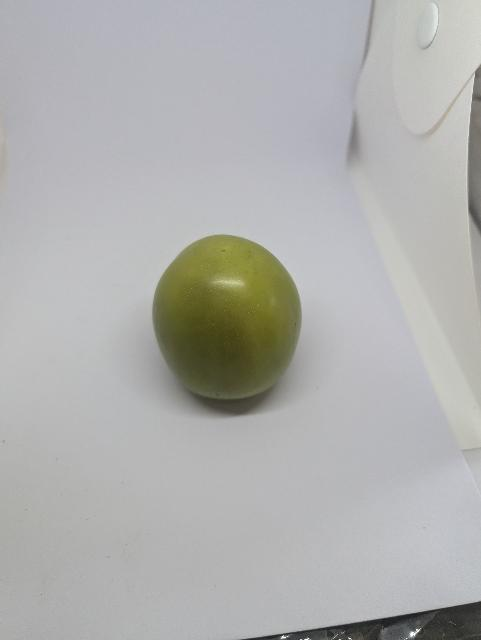green: (136, 223, 325, 414)
